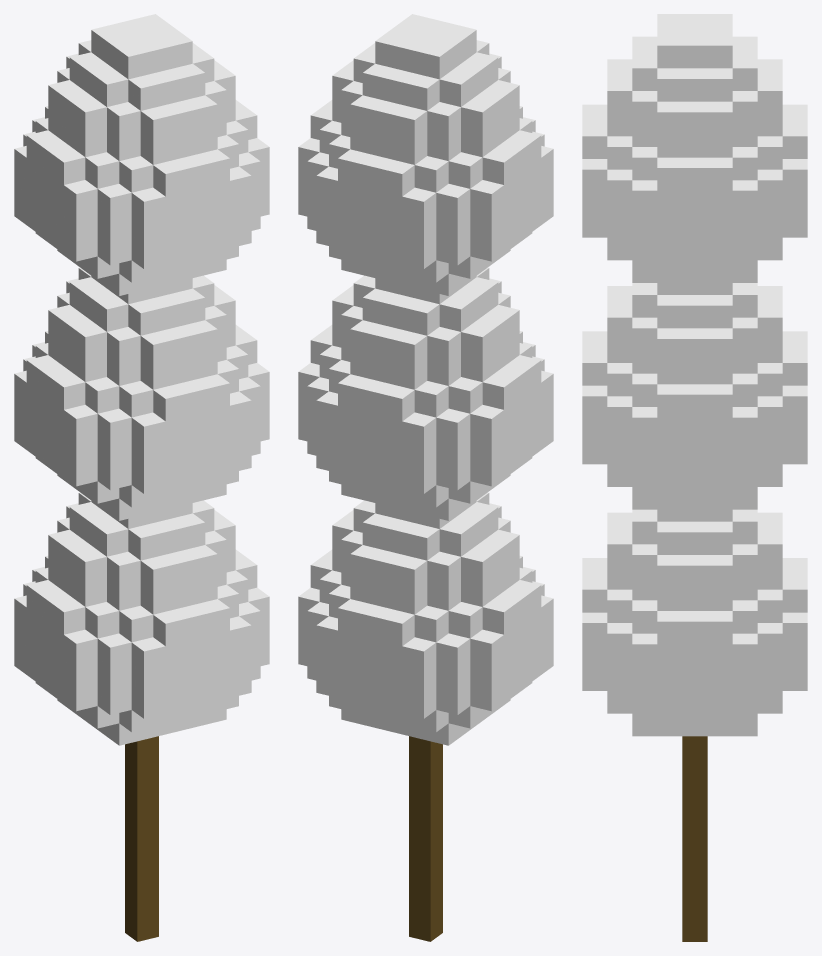
File: tamago1.fbx
3 views of the same model, side by side, from view 1: azimuth 30°, elevation 25°; view 2: azimuth 150°, elevation 25°; view 3: azimuth 270°, elevation 25° (orthographic).
Visible parts, largest first — view 1: ObjObject.002; view 2: ObjObject.002; view 3: ObjObject.002.
Boxes of the visible parts, bbox=[...] form: ObjObject.002: bbox=[14, 14, 269, 941]; ObjObject.002: bbox=[298, 14, 553, 941]; ObjObject.002: bbox=[582, 14, 807, 941].
Size of the model in its own units: 90 by 400 by 90.
Materials: 1 (1 with a texture image).
